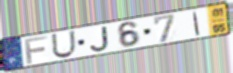6: (116, 20, 142, 49)
7: (152, 13, 177, 44)
F: (23, 34, 49, 65)
I: (192, 10, 202, 37)
J: (89, 25, 111, 52)
U: (51, 30, 77, 60)
